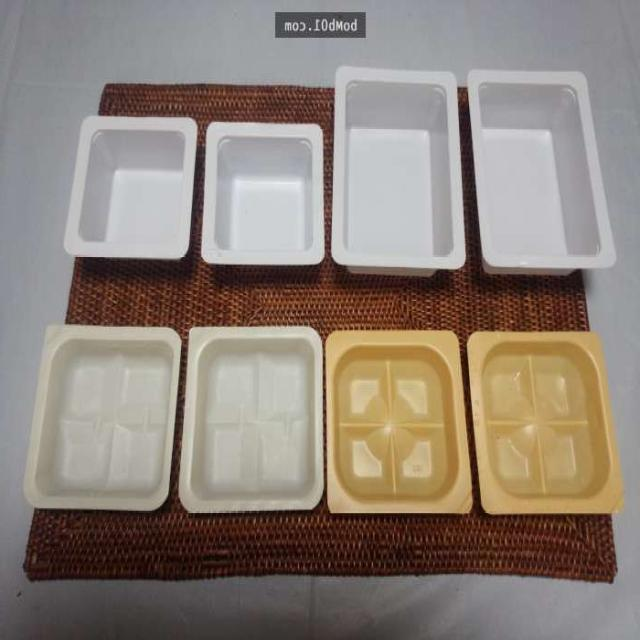plastic: (466, 65, 618, 289), (22, 321, 185, 518), (468, 322, 628, 522), (331, 64, 463, 280), (180, 325, 324, 516), (325, 326, 468, 518), (201, 111, 331, 276), (64, 114, 201, 266)
